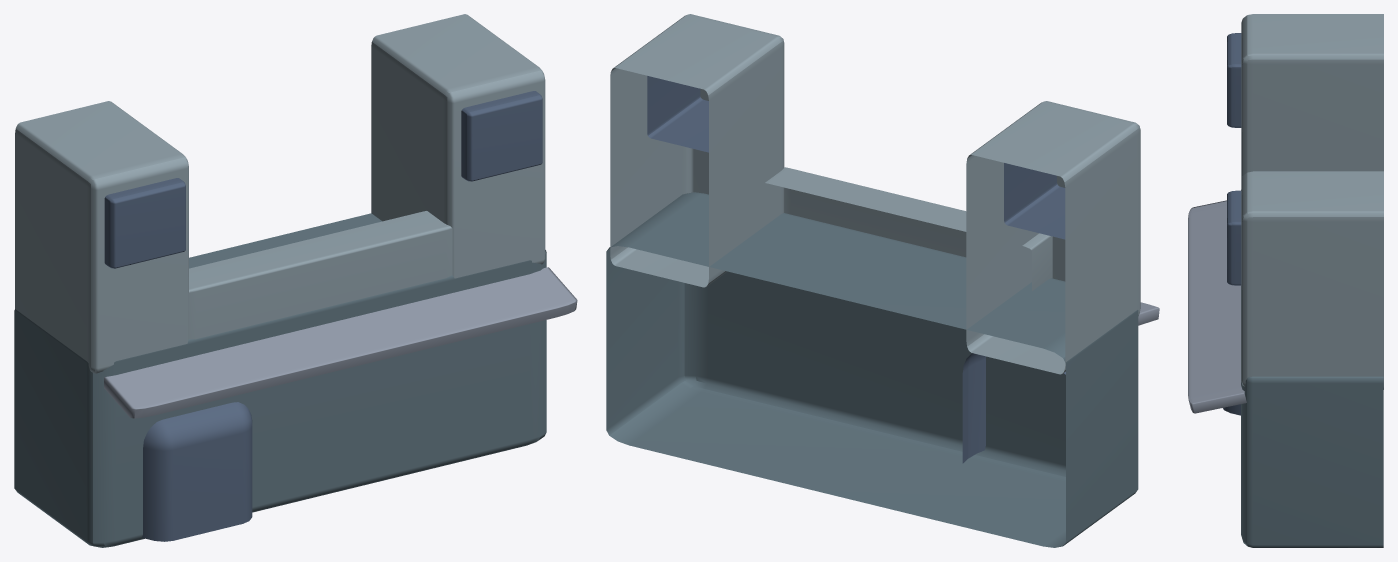
The picture shows the model from 3 angles, left to right: view 1: azimuth 30°, elevation 25°; view 2: azimuth 150°, elevation 25°; view 3: azimuth 270°, elevation 25°; orthographic projection. The views are drawn at different scales.
Parts seen in each view (by area): view 1: polySurface40, polySurface41, polySurface35, polySurface38; view 2: polySurface41, polySurface40, polySurface35; view 3: polySurface40, polySurface41, polySurface38, polySurface35.
Boxes of the visible parts, <box> form: polySurface40: <box>15,14,545,373</box>; polySurface41: <box>14,213,546,547</box>; polySurface35: <box>104,91,542,541</box>; polySurface38: <box>104,267,577,418</box>; polySurface41: <box>606,192,1138,547</box>; polySurface40: <box>610,14,1140,374</box>; polySurface35: <box>647,76,1065,463</box>; polySurface40: <box>1241,14,1383,389</box>; polySurface41: <box>1241,190,1383,547</box>; polySurface38: <box>1188,200,1246,413</box>; polySurface35: <box>1223,33,1241,415</box>.
Bounding box in the file's own units: 7.22 × 5.61 × 2.94.
